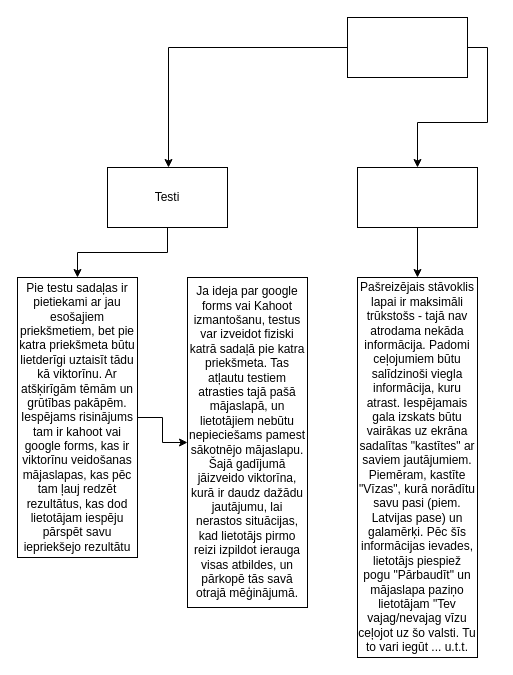
This 513x675 diagram has some shape labels left out. Each missing label, with the box of its shape:
Aktuālā informācija/Padomi ceļojot: (356, 166, 478, 228)
Idejas: (346, 16, 468, 78)
